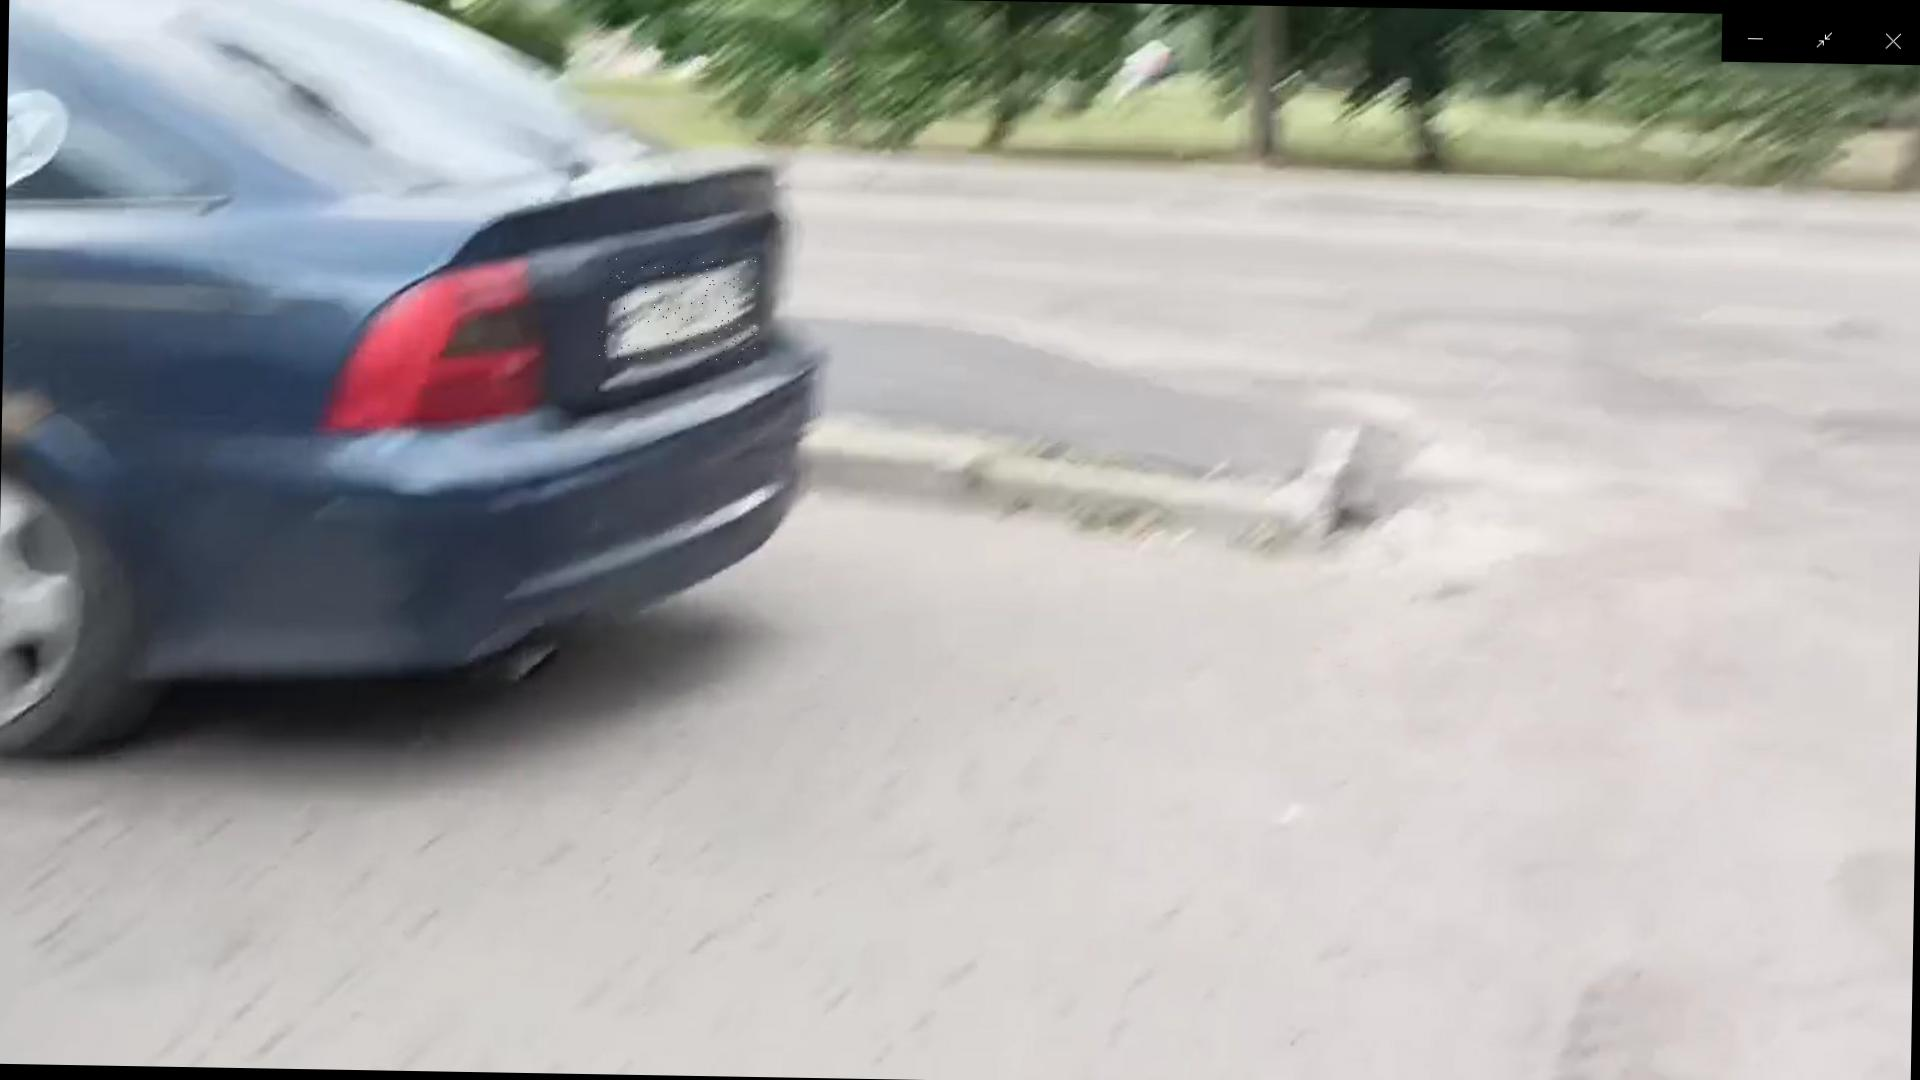plate: (601, 257, 761, 364)
